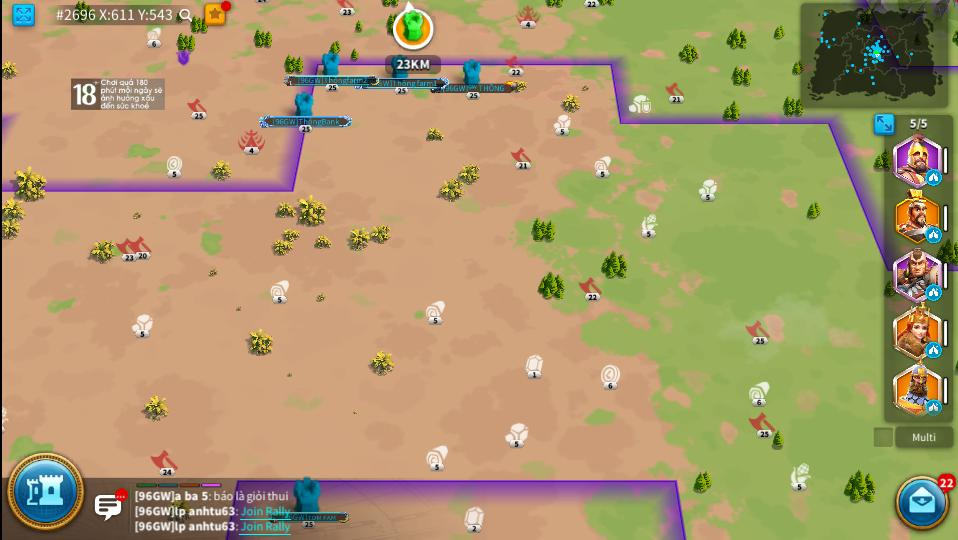gem-z-out: (462, 506, 485, 532), (525, 355, 543, 379)
march_idle: (925, 228, 942, 242), (926, 170, 940, 185), (927, 400, 941, 415), (926, 285, 940, 299), (928, 343, 940, 357)
